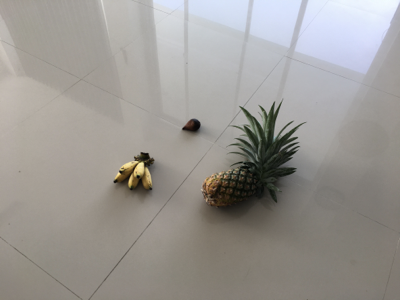banana: (113, 150, 156, 197)
pineapple: (202, 99, 307, 210)
snake fruit: (181, 119, 202, 133)
